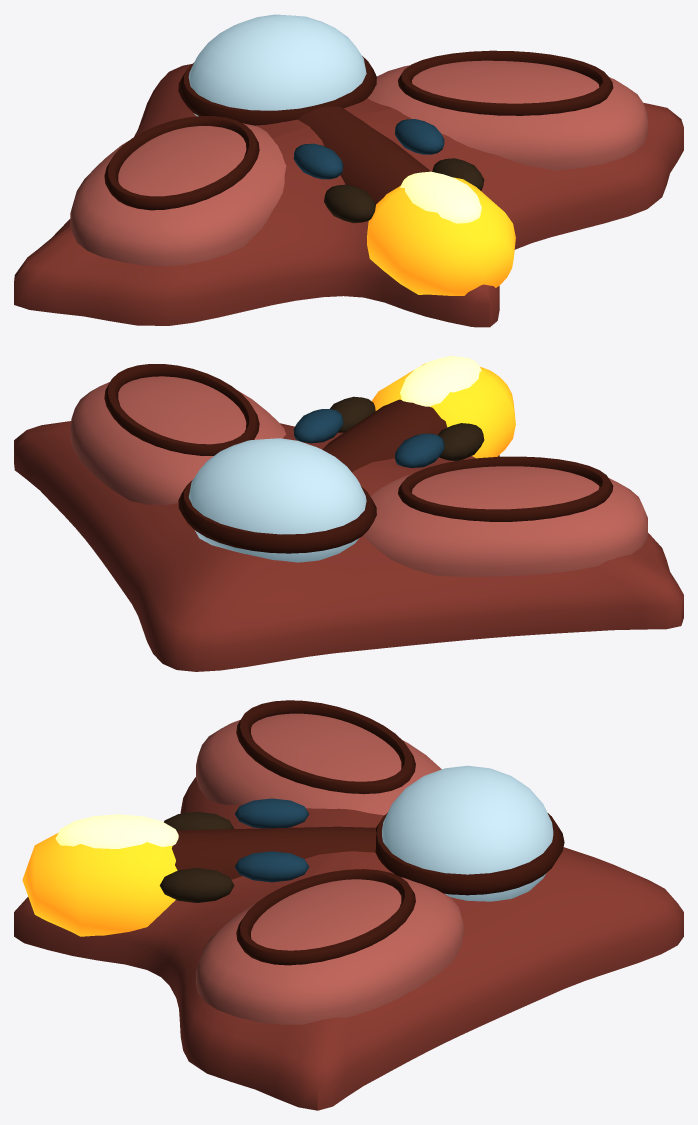
Rendered from sk_warfly.glb.
3 renders of one model, top to bottom at view 1: azimuth 30°, elevation 25°; view 2: azimuth 150°, elevation 25°; view 3: azimuth 270°, elevation 25°, orthographic. The views are drawn at different scales.
Parts seen in each view (by area): view 1: wing, lobe, lobe.001, dome, engine, keel, panel.001, panel, dome_ring, engine_hot, vent, intake (+2 smaller); view 2: wing, lobe, lobe.001, dome, panel, engine, keel, panel.001, dome_ring, engine_hot, intake, vent (+2 smaller); view 3: wing, lobe.001, dome, lobe, engine, keel, panel, panel.001, dome_ring, engine_hot, vent.001, intake.001 (+2 smaller).
Part boxes in pixels (<box>): wing: <box>14,64,683,327</box>; lobe: <box>70,123,286,266</box>; lobe.001: <box>368,60,647,170</box>; dome: <box>188,14,366,116</box>; engine: <box>367,177,515,295</box>; keel: <box>298,106,430,204</box>; panel.001: <box>398,50,613,115</box>; panel: <box>104,116,259,210</box>; dome_ring: <box>178,56,376,125</box>; engine_hot: <box>400,171,481,223</box>; vent: <box>324,184,375,223</box>; intake: <box>293,143,343,179</box>; wing: <box>14,421,683,671</box>; lobe: <box>363,466,647,576</box>; lobe.001: <box>70,376,286,504</box>; dome: <box>188,438,366,562</box>; panel: <box>398,456,613,521</box>; engine: <box>371,363,515,458</box>; keel: <box>322,399,447,472</box>; panel.001: <box>104,364,259,455</box>; dome_ring: <box>178,480,376,553</box>; engine_hot: <box>400,356,481,406</box>; intake: <box>395,433,444,467</box>; vent: <box>438,423,484,461</box>; wing: <box>14,777,683,1110</box>; lobe.001: <box>196,877,464,1024</box>; dome: <box>382,765,553,901</box>; lobe: <box>196,713,441,815</box>; engine: <box>22,833,177,936</box>; keel: <box>172,826,376,879</box>; panel: <box>236,700,415,794</box>; panel.001: <box>236,869,415,965</box>; dome_ring: <box>375,812,564,895</box>; engine_hot: <box>55,814,178,848</box>; vent.001: <box>159,868,234,902</box>; intake.001: <box>234,851,309,882</box>.
Bounding box in the file's own units: 19.8 × 4.2 × 16.1.
